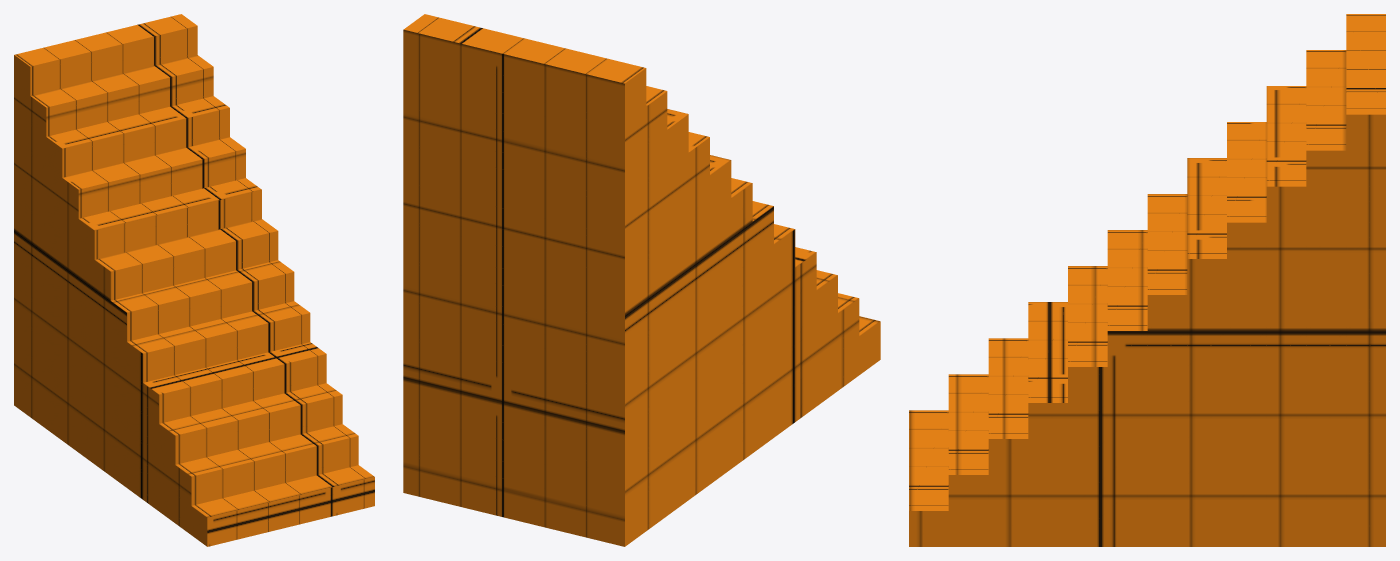
The model's file is stairs1x2x2.fbx.
3 renders of one model, left to right at view 1: azimuth 30°, elevation 25°; view 2: azimuth 150°, elevation 25°; view 3: azimuth 270°, elevation 25°, orthographic. The views are drawn at different scales.
Parts seen in each view (by area): view 1: stairs1x2x2; view 2: stairs1x2x2; view 3: stairs1x2x2.
Part boxes in pixels (x1,y1,x2,y2): stairs1x2x2: (14, 14, 374, 546); stairs1x2x2: (403, 14, 880, 546); stairs1x2x2: (909, 14, 1385, 546).
Bounding box in the file's own units: 100 × 200 × 200.
1 material, 1 textured.
